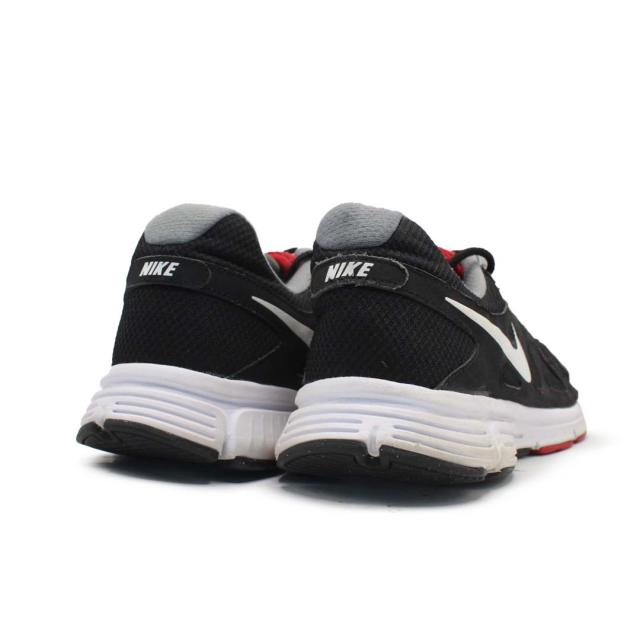heel: (110, 204, 314, 385), (301, 204, 485, 393)
midsole: (276, 376, 585, 487), (77, 364, 299, 470)
uppersole: (486, 268, 580, 406)
